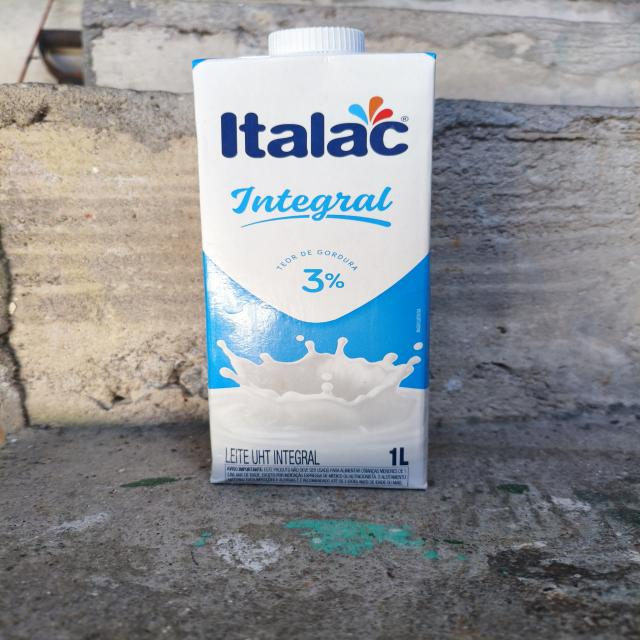Caixa de Leite: (185, 24, 436, 492)
